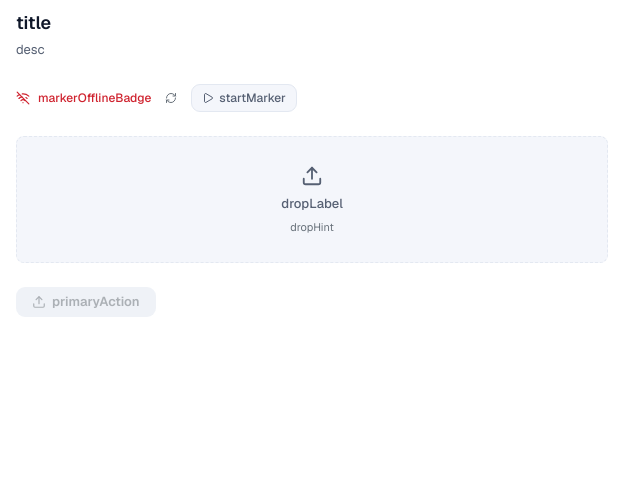
Scenario: ConvertPanel — R12-6: Avvia Marker — visible in Tauri + offline › clicking start-marker with no saved command reveals the config field
The width and height of the screenshot is (625, 496).
expect the text "markerOfflineBadge" is shown: met, box [38,90,151,106]
Click the button with test id "start-marker-btn" at [244, 98], box [191,84,297,112]
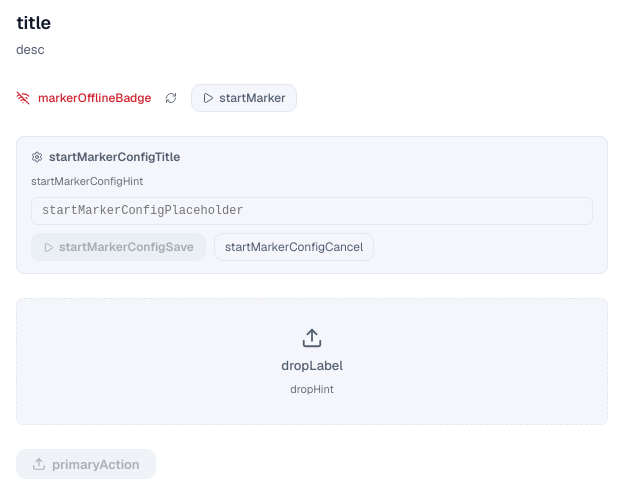
expect the element with test id "start-marker-cmd-field" is shown: met, box [16,136,608,274]
expect the button with test id "start-marker-cmd-save" is shown: met, box [31,233,206,261]
